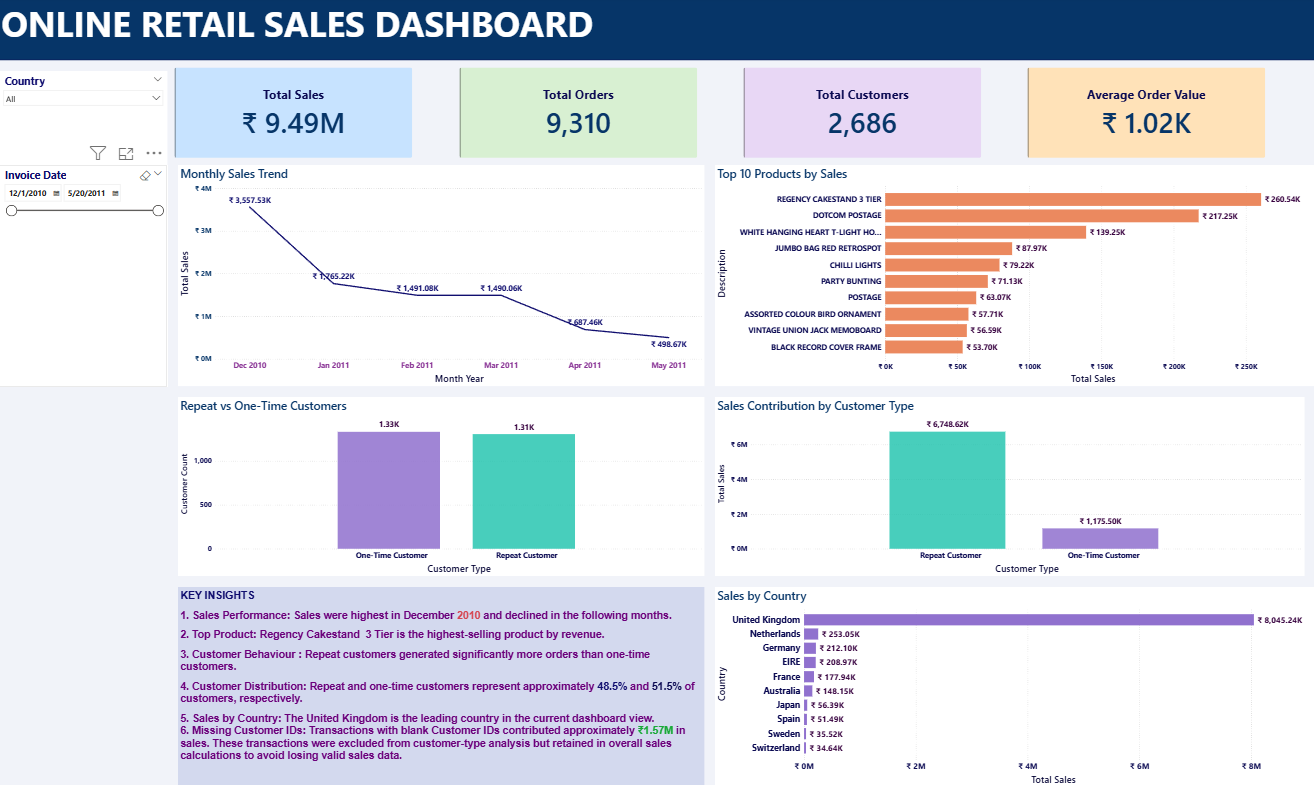

Layout of this report page (visuals, bound fields, positions):
{"tool":"powerbi","page":{"name":"Page 1","canvas":[3000,1800],"ordinal":0},"visuals":[{"type":"shape","box":[0,0,3000,144],"z":0},{"type":"textbox","box":[0,0,3000,144],"z":1000},{"type":"cardVisual","title":"Total Sales","fields":{"Data":["online_retail_db online_retail_tb.Total Sales"]},"box":[384,144,576,240],"z":2000},{"type":"cardVisual","title":"Total Sales","fields":{"Data":["online_retail_db online_retail_tb.Total Orders"]},"box":[1032,144,576,240],"z":3000},{"type":"cardVisual","title":"Total Sales","fields":{"Data":["online_retail_db online_retail_tb.Total Customers"]},"box":[1680,144,576,240],"z":4000},{"type":"cardVisual","title":"Total Sales","fields":{"Data":["online_retail_db online_retail_tb.Average Order Value"]},"box":[2328,144,576,240],"z":5000},{"type":"lineChart","title":"Monthly Sales Trend","fields":{"Category":["online_retail_db online_retail_tb.Month Year"],"Y":["online_retail_db online_retail_tb.Total Sales"]},"box":[408,384,1200,504],"z":6000},{"type":"clusteredBarChart","title":"Top 10 Products by Sales","fields":{"Category":["online_retail_db online_retail_tb.Description"],"Y":["online_retail_db online_retail_tb.Total Sales"]},"box":[1632,384,1368,504],"z":7000},{"type":"clusteredBarChart","title":"Sales by Country","fields":{"Y":["online_retail_db online_retail_tb.Total Sales"],"Category":["online_retail_db online_retail_tb.Country"]},"box":[1632,1344,1368,456],"z":8000},{"type":"clusteredColumnChart","title":"Repeat vs One-Time Customers","fields":{"Category":["Customer Summary.Customer Type"],"Y":["CountNonNull(Customer Summary.customer_id)"]},"box":[408,912,1200,408],"z":9000},{"type":"slicer","fields":{"Values":["online_retail_db online_retail_tb.Country"]},"box":[0,168,384,408],"z":11000},{"type":"slicer","fields":{"Values":["online_retail_db online_retail_tb.Invoice Date Clean"]},"box":[0,384,384,504],"z":12000},{"type":"textbox","box":[408,1344,1200,456],"z":13000},{"type":"clusteredColumnChart","title":"Sales Contribution by Customer Type","fields":{"Category":["Customer Summary.Customer Type"],"Y":["online_retail_db online_retail_tb.Total Sales"]},"box":[1632,912,1344,408],"z":14000}]}

Visuals, with their boxes in screenshot pixels (x1, y1, x2, y2), scaled from the page's 3000x1800 canvas onto the 1314x785 screenshot:
shape: [0, 0, 1313, 63]
textbox: [0, 0, 1313, 63]
"Total Sales" cardVisual: [168, 63, 420, 167]
"Total Sales" cardVisual: [452, 63, 704, 167]
"Total Sales" cardVisual: [736, 63, 988, 167]
"Total Sales" cardVisual: [1020, 63, 1272, 167]
"Monthly Sales Trend" lineChart: [179, 167, 704, 387]
"Top 10 Products by Sales" clusteredBarChart: [715, 167, 1313, 387]
"Sales by Country" clusteredBarChart: [715, 586, 1313, 784]
"Repeat vs One-Time Customers" clusteredColumnChart: [179, 398, 704, 576]
slicer - online_retail_db online_retail_tb.Country: [0, 73, 168, 251]
slicer - online_retail_db online_retail_tb.Invoice Date Clean: [0, 167, 168, 387]
textbox: [179, 586, 704, 784]
"Sales Contribution by Customer Type" clusteredColumnChart: [715, 398, 1303, 576]
